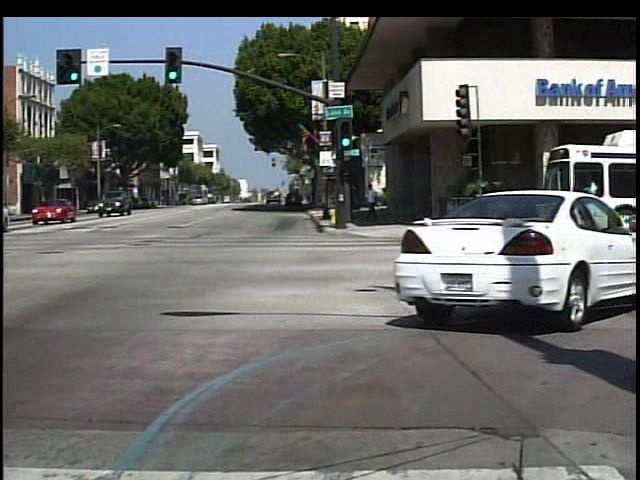person: (363, 181, 383, 222)
